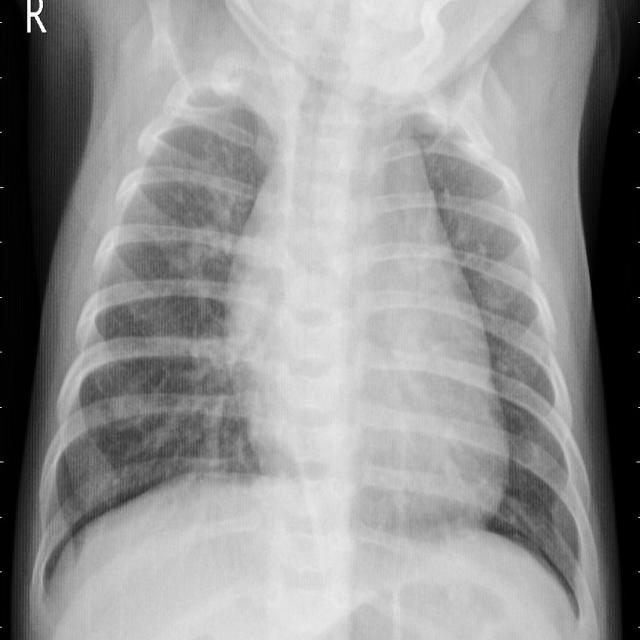low-pneumonia: (158, 330, 250, 476), (174, 156, 240, 292)
